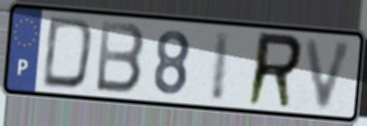8: (153, 27, 192, 97)
B: (93, 18, 148, 97)
D: (39, 14, 97, 93)
I: (208, 28, 234, 104)
R: (244, 29, 307, 111)
V: (303, 37, 358, 114)
